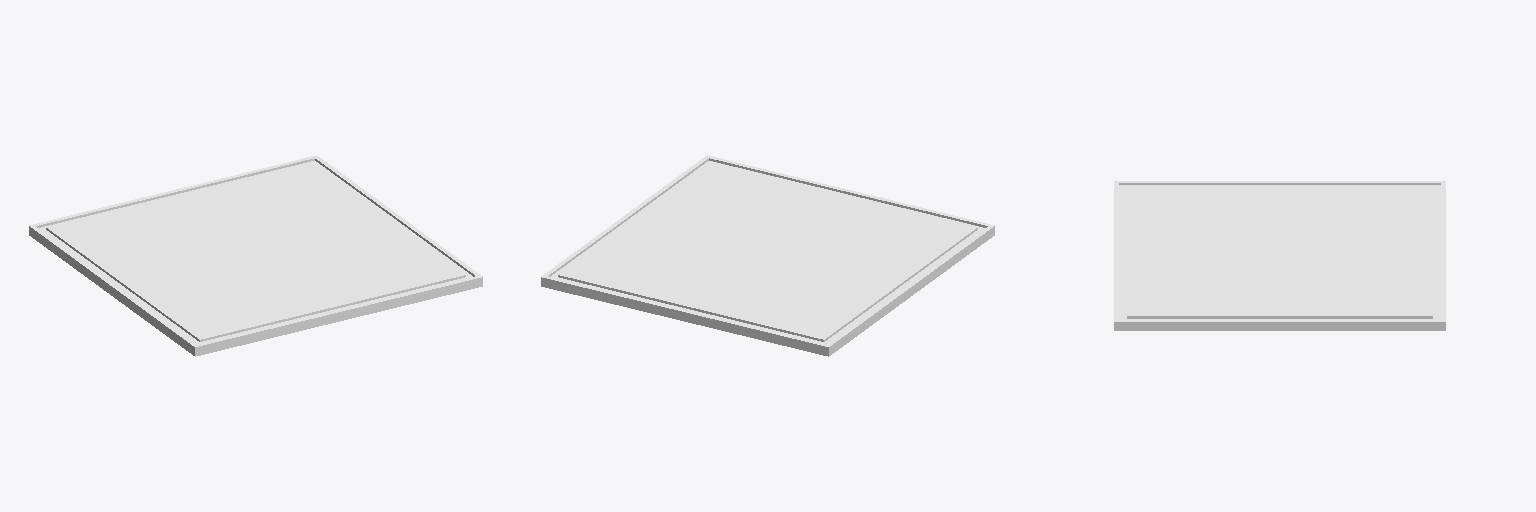
File: FloorTileDark.obj
3 renders of one model, left to right at view 1: azimuth 30°, elevation 25°; view 2: azimuth 150°, elevation 25°; view 3: azimuth 270°, elevation 25°, orthographic.
Visible parts, largest first — view 1: object 1; view 2: object 1; view 3: object 1.
Boxes of the visible parts, x1,y1,x2,y2 form: object 1: [29, 155, 482, 356]; object 1: [541, 155, 994, 356]; object 1: [1114, 181, 1445, 330].
Size of the model in its own units: 12.8 by 0.4 by 12.8.